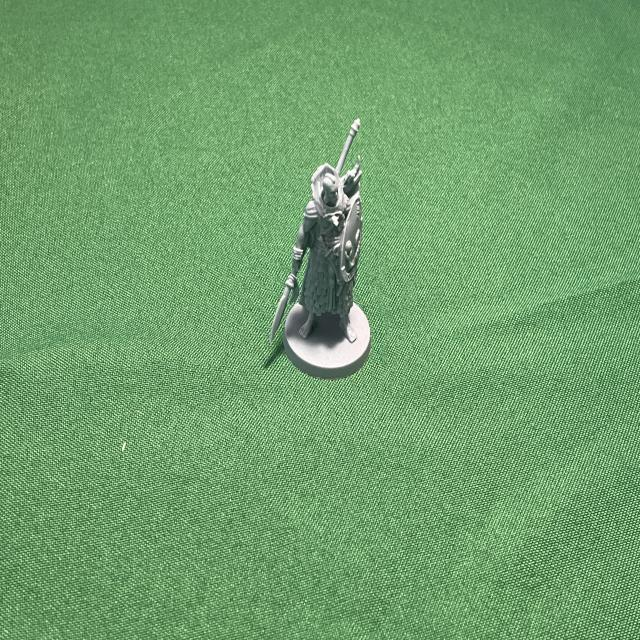isis_follower: (264, 116, 375, 382)
